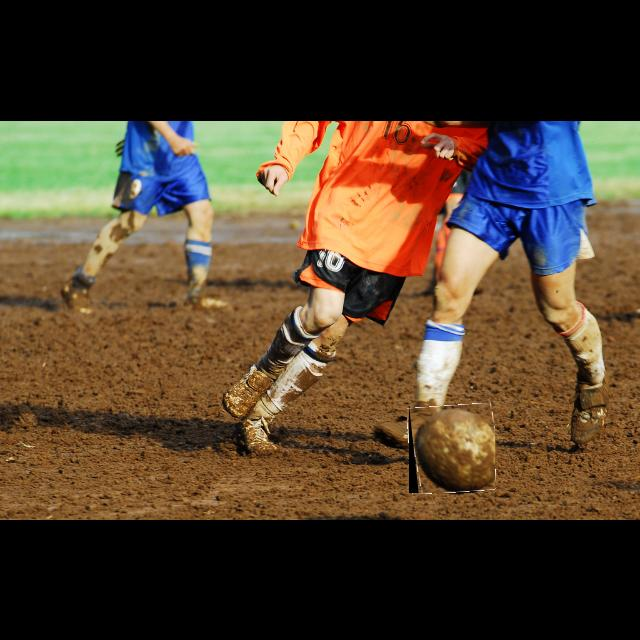Football: (409, 405, 495, 493)
